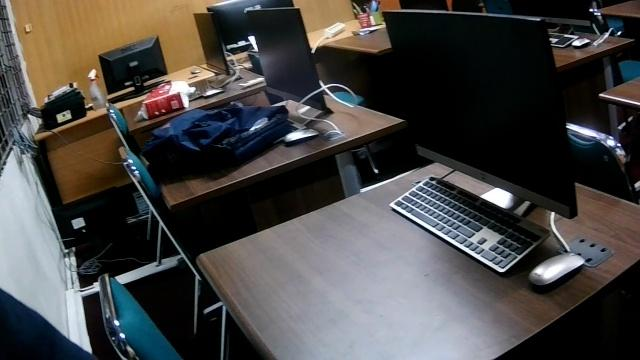AIO PC-Monitor-TV: (380, 9, 578, 220), (246, 6, 327, 112)
Meja: (194, 160, 639, 359), (156, 93, 408, 215)
